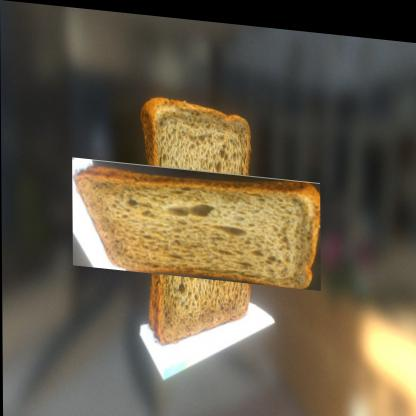bread: (106, 123, 287, 318)
